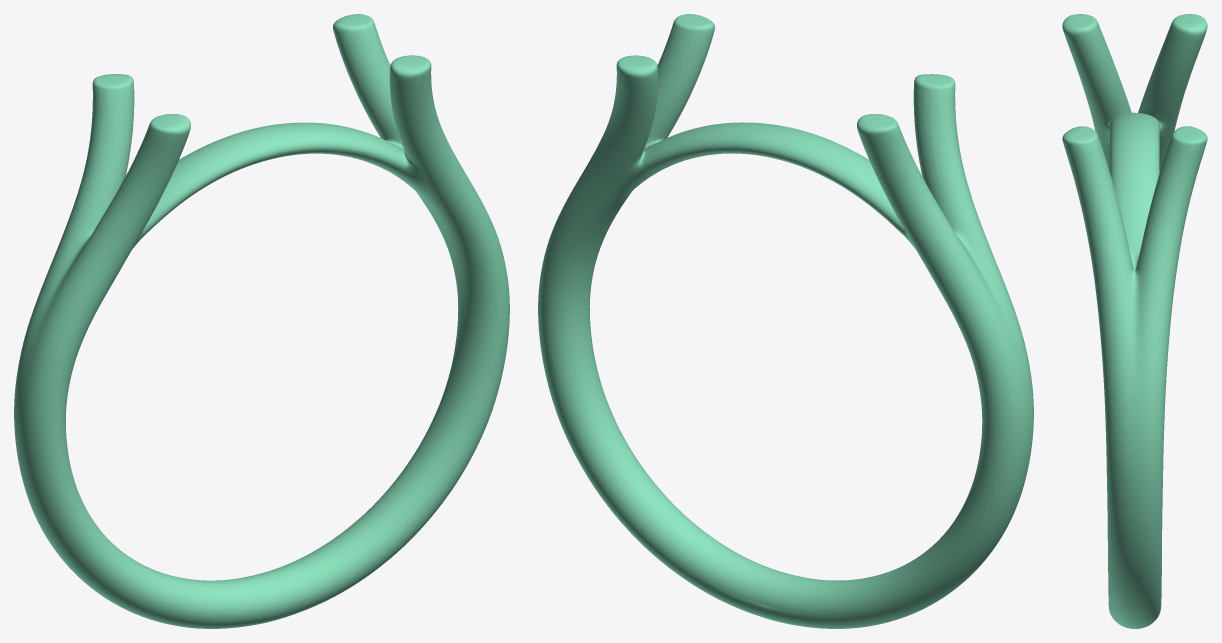
The picture shows the model from 3 angles, left to right: view 1: azimuth 30°, elevation 25°; view 2: azimuth 150°, elevation 25°; view 3: azimuth 270°, elevation 25°; orthographic projection. The views are drawn at different scales.
Visible parts, largest first — view 1: Metal02; view 2: Metal02; view 3: Metal02.
Part boxes in pixels (<box>): Metal02: <box>14,14,509,628</box>; Metal02: <box>538,14,1033,628</box>; Metal02: <box>1062,14,1207,628</box>.
Size of the model in its own units: 20.9 by 22.63 by 5.65.
